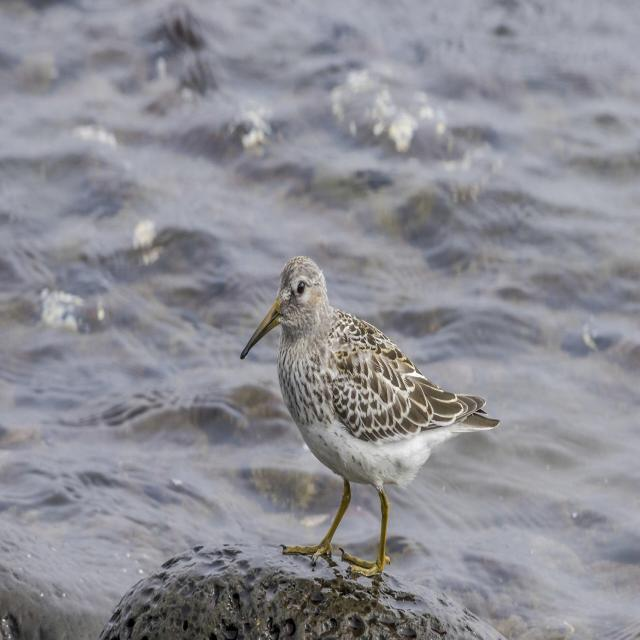sandpiper: (241, 256, 499, 577)
